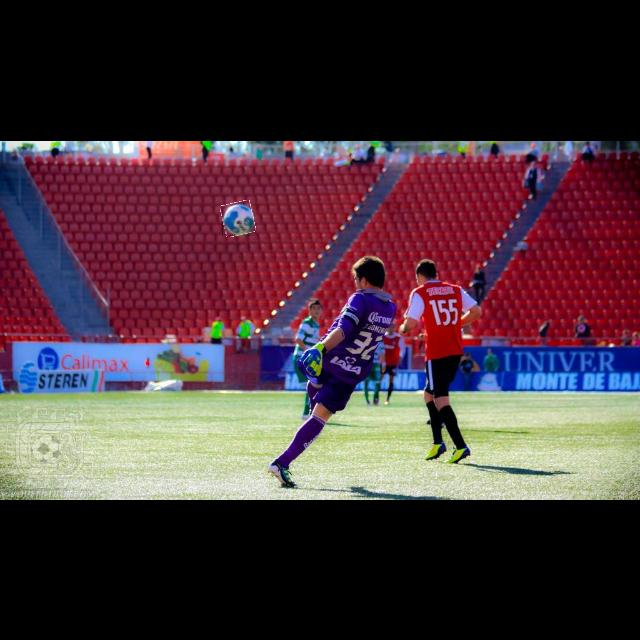Football: (222, 202, 254, 236)
